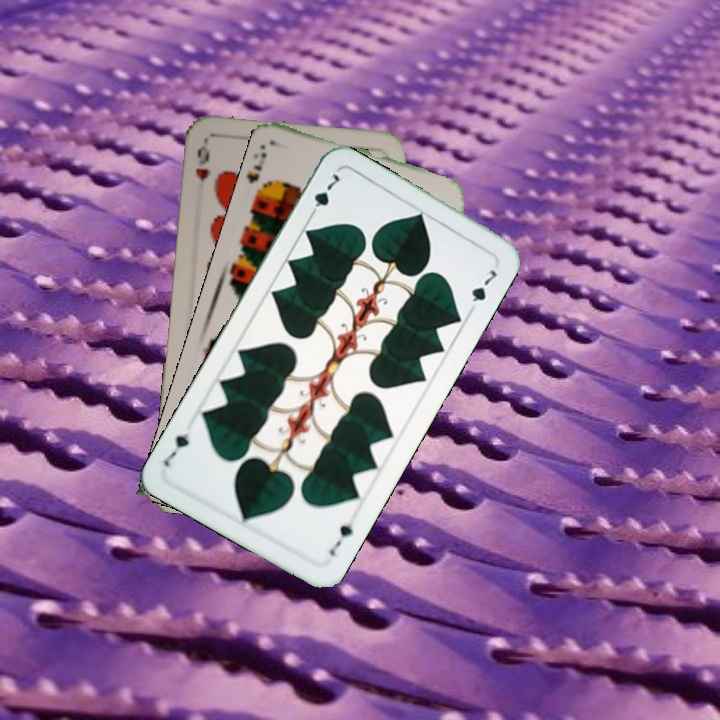G7: (305, 167, 343, 222), (325, 520, 356, 559)
H9: (191, 142, 212, 184)
S9: (249, 148, 272, 202)
